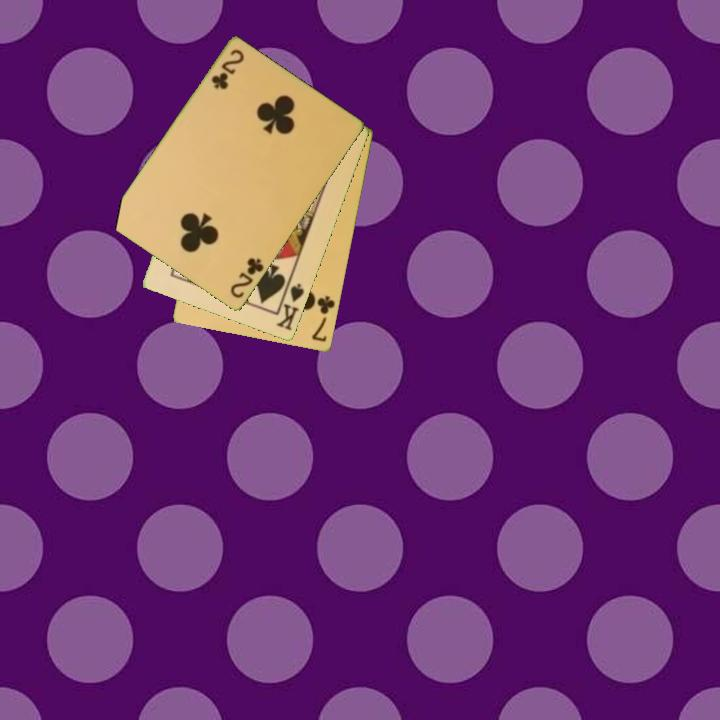2c: (227, 254, 267, 302), (208, 46, 247, 93)
7c: (308, 293, 338, 345)
Ks: (273, 280, 307, 334)
